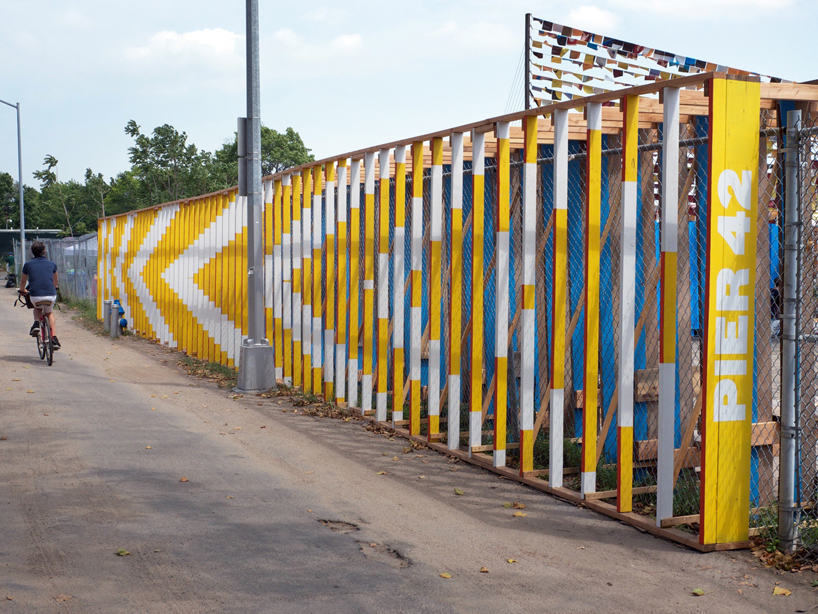Fence: (259, 77, 770, 546), (87, 196, 254, 381)
Person: (14, 242, 66, 351)
